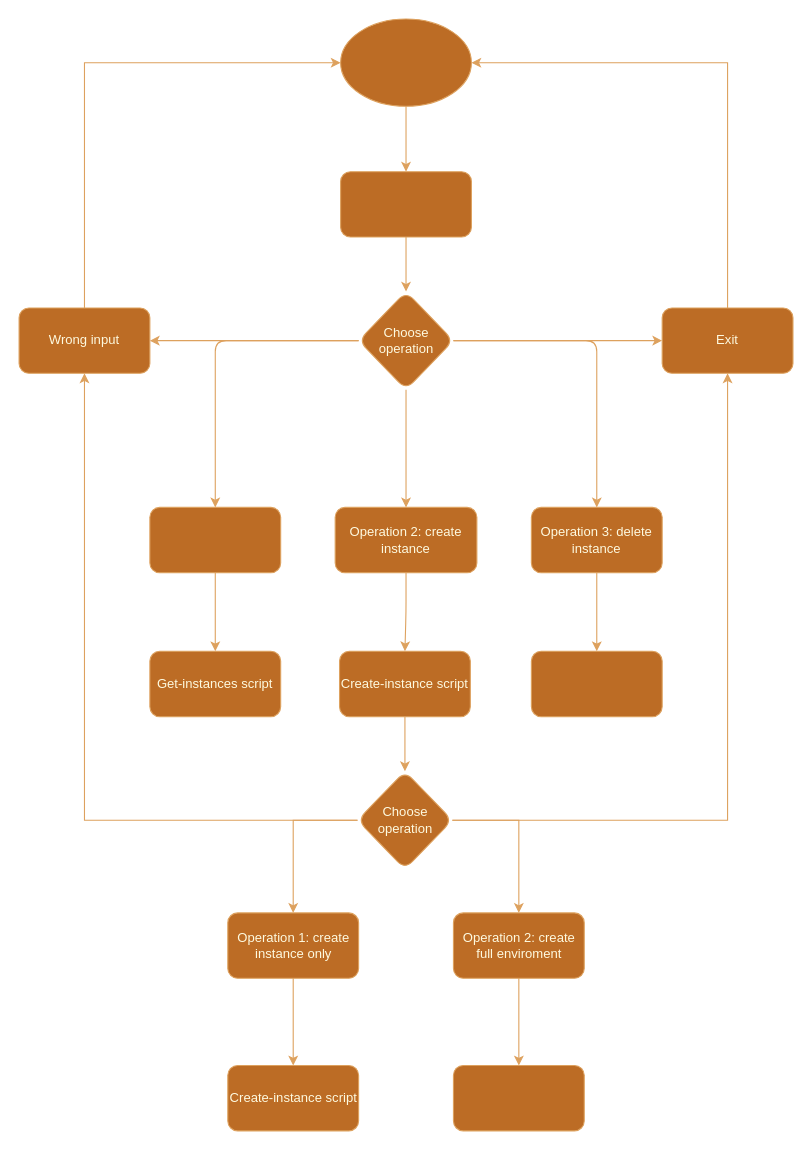
Image size: 812x1150. Some labels were removed from this diagram. The centre of each missing label's shape, as x and y in pixels:
"Create full enviroment script (VPC, EC2, Subnets Scripts)" goes at (x=518, y=1097).
"Delete-instance script" goes at (x=596, y=683).
"EC2-Script" goes at (x=405, y=204).
"Operation 1: get available instances" goes at (x=215, y=539).
"Start" goes at (x=405, y=62).
